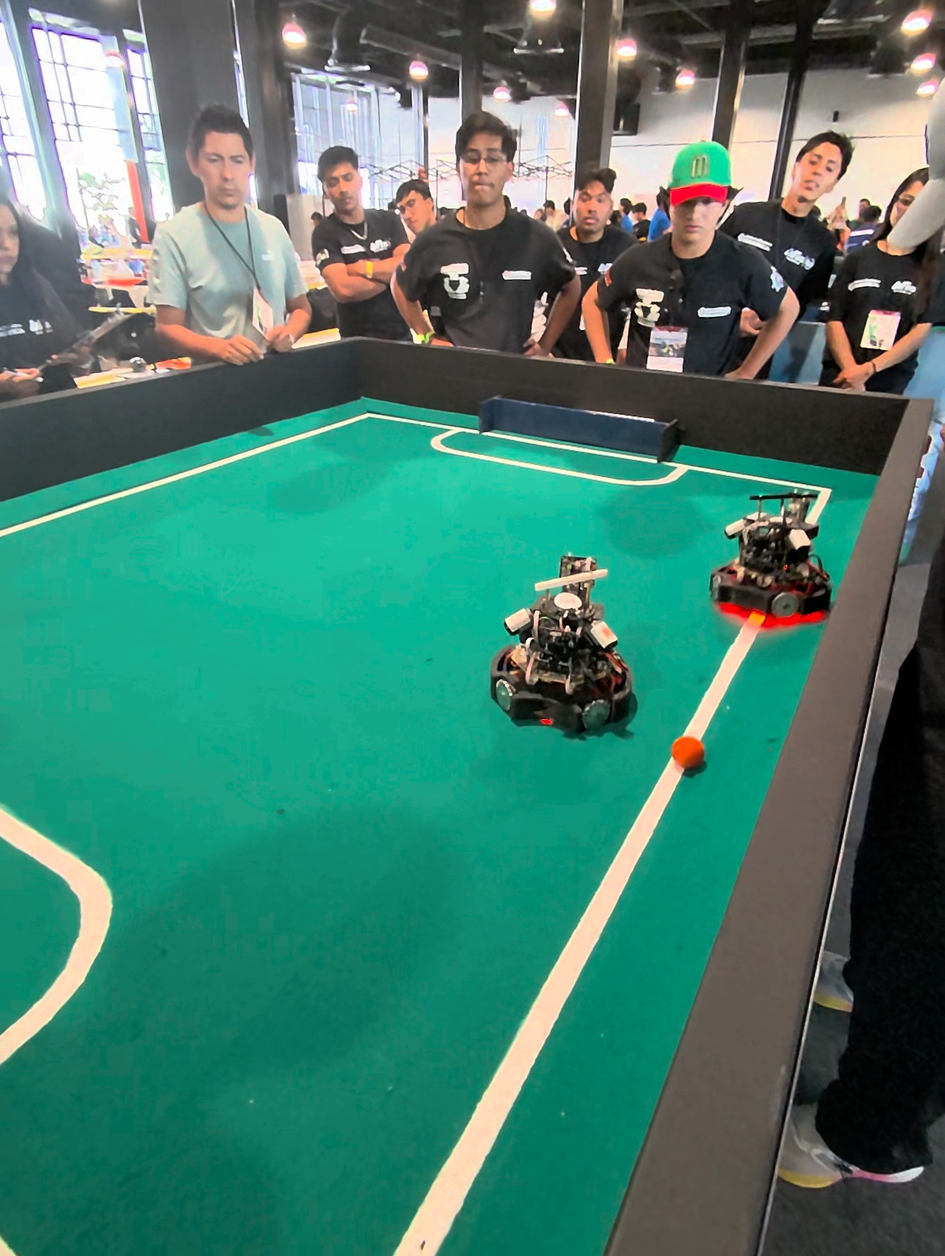Robot: (486, 554, 633, 750), (716, 486, 840, 639)
pelota: (672, 739, 706, 774)
